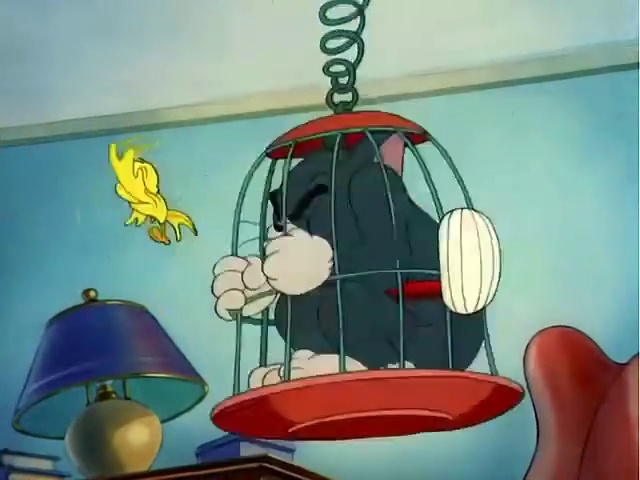tom: (208, 122, 520, 377)
